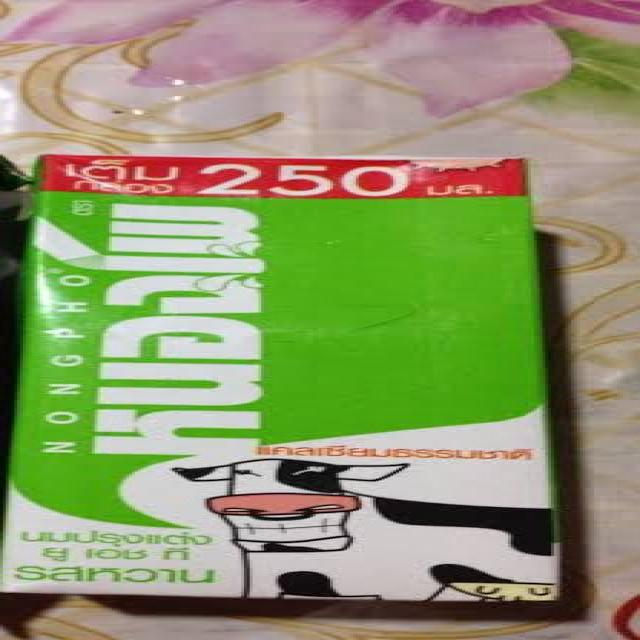drink carton: (0, 133, 581, 628)
